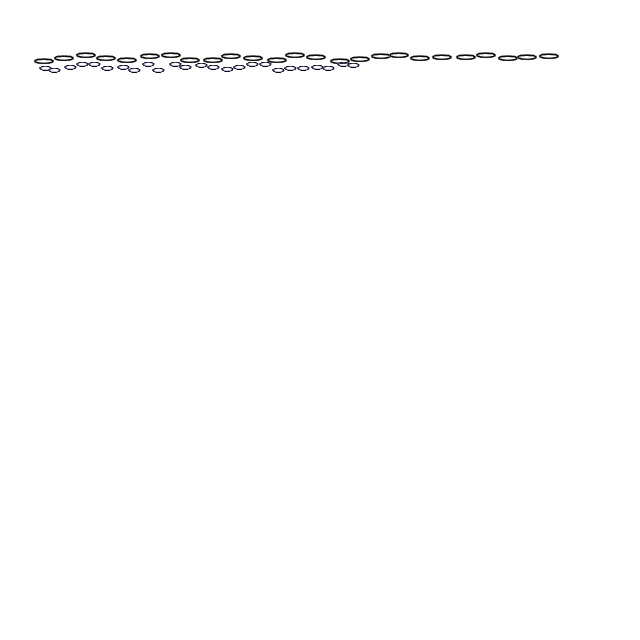chain: (52, 54, 76, 64), (94, 54, 118, 64), (115, 56, 139, 66), (138, 52, 162, 62), (178, 56, 202, 66), (201, 56, 225, 66), (219, 52, 243, 62), (241, 54, 265, 64), (265, 56, 289, 66), (369, 52, 393, 62), (408, 54, 432, 64), (496, 54, 520, 64), (537, 52, 561, 62), (32, 58, 56, 66), (74, 52, 98, 60), (159, 52, 183, 60), (283, 52, 307, 60), (304, 54, 328, 62), (328, 58, 352, 66), (348, 56, 372, 64), (387, 52, 411, 60), (430, 54, 454, 62), (454, 54, 478, 62), (474, 52, 498, 60), (515, 54, 539, 62), (38, 63, 54, 73), (100, 63, 116, 73), (116, 62, 132, 72), (168, 59, 184, 69), (178, 62, 194, 72), (194, 60, 210, 70), (206, 62, 222, 72), (220, 64, 236, 74), (232, 62, 248, 72), (258, 59, 274, 69), (296, 63, 312, 73), (310, 62, 326, 72), (336, 59, 352, 69), (346, 60, 362, 70), (48, 65, 62, 75), (64, 62, 78, 72), (76, 59, 90, 69), (88, 59, 102, 69), (128, 65, 142, 75), (142, 59, 156, 69), (152, 65, 166, 75), (246, 59, 260, 69), (272, 65, 286, 75), (284, 63, 298, 73), (322, 63, 336, 73)
